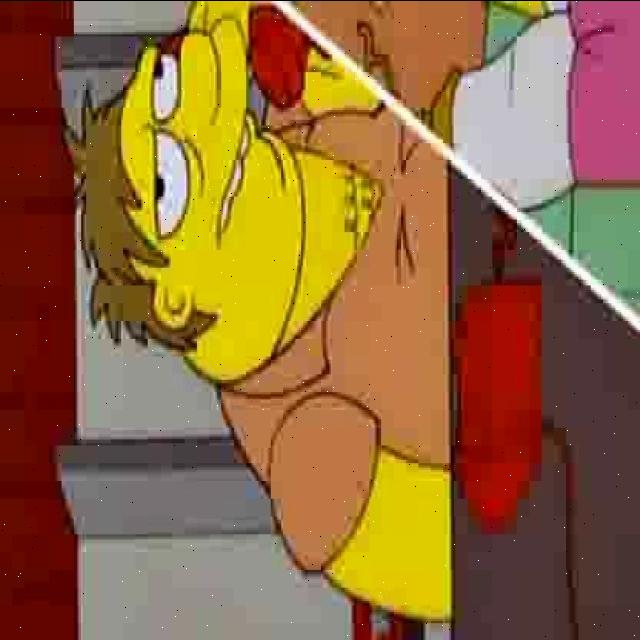Barney Gumble: (60, 11, 308, 389)
